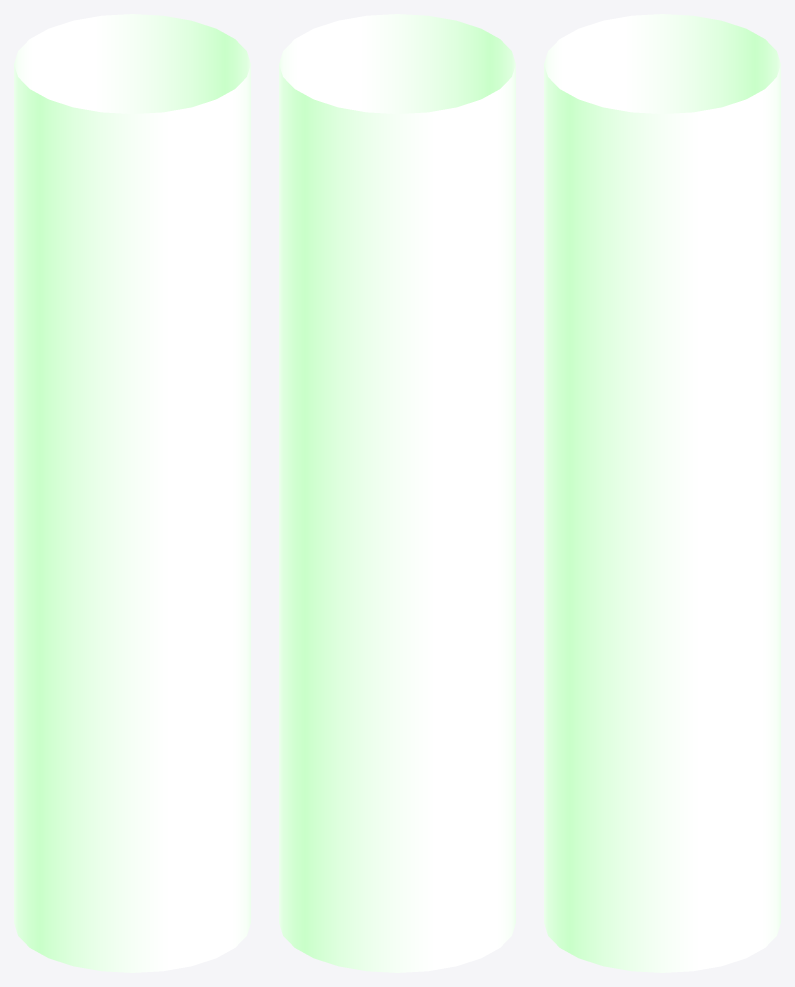
File: FX_GreenBeam.fbx
3 views of the same model, side by side, from view 1: azimuth 30°, elevation 25°; view 2: azimuth 150°, elevation 25°; view 3: azimuth 270°, elevation 25° (orthographic).
Visible parts, largest first — view 1: FX_GreenBeam; view 2: FX_GreenBeam; view 3: FX_GreenBeam.
Boxes of the visible parts, box(x1,y1,x2,y2) form: FX_GreenBeam: box(14, 14, 250, 972); FX_GreenBeam: box(279, 14, 515, 972); FX_GreenBeam: box(544, 14, 780, 972).
Size of the model in its own units: 2 by 8 by 2.
